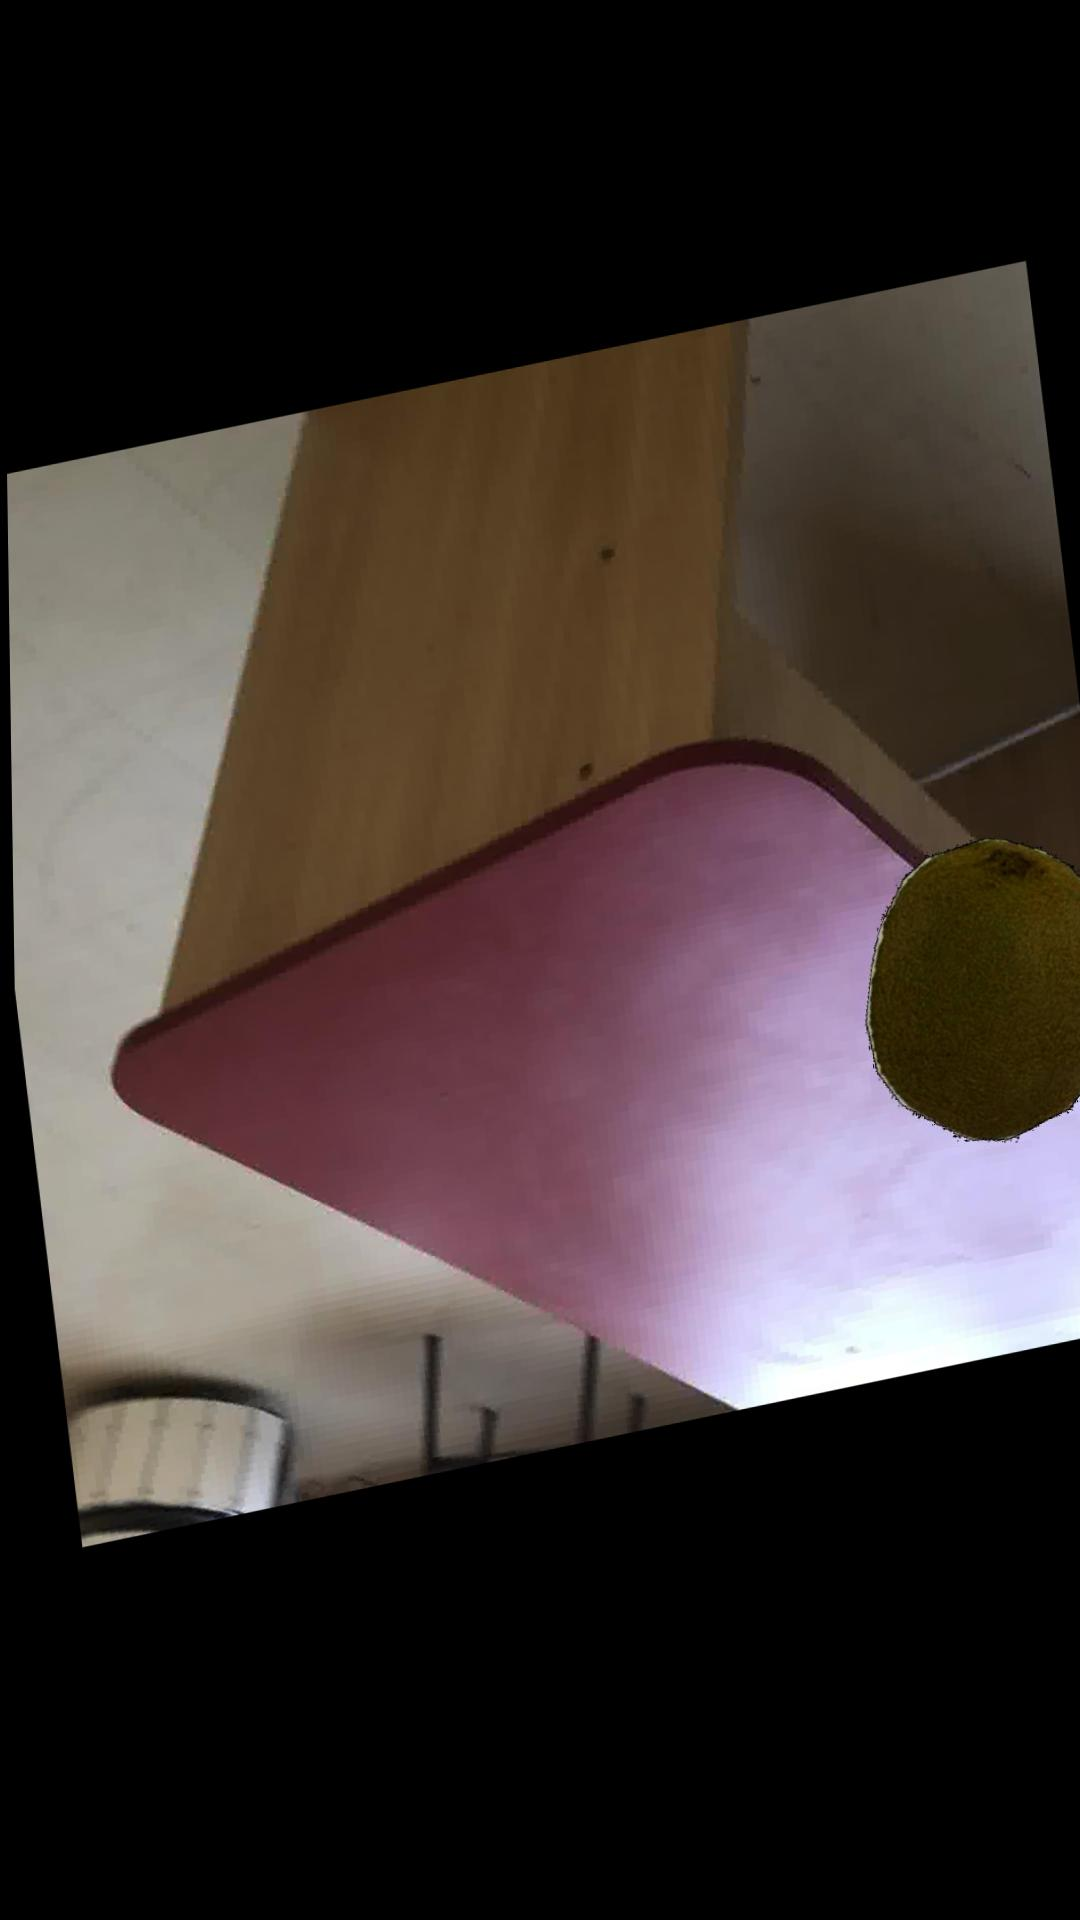kiwi: (862, 858, 1080, 1160)
